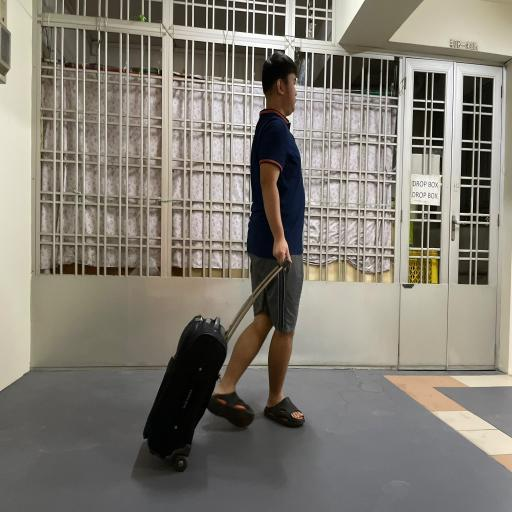person_right: (142, 53, 306, 489)
